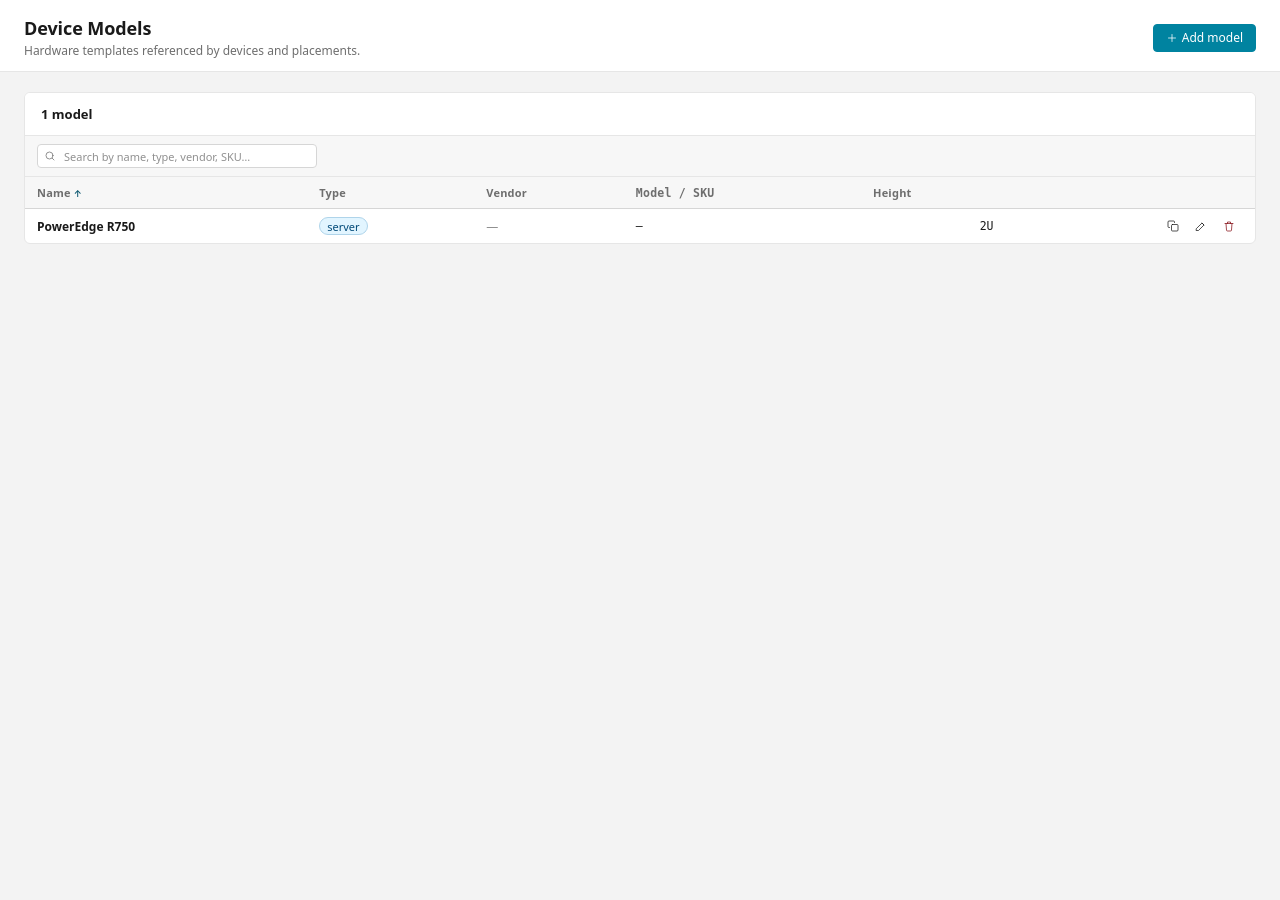
DeviceModelsPanel — create similar › Create similar button opens add modal with prefilled name 'Copy of ...'
Check: the text "PowerEdge R750" is shown, box [37,218,135,234]
Click the button named "Create similar to PowerEdge R750": x=1173, y=226 [1159,215,1187,237]
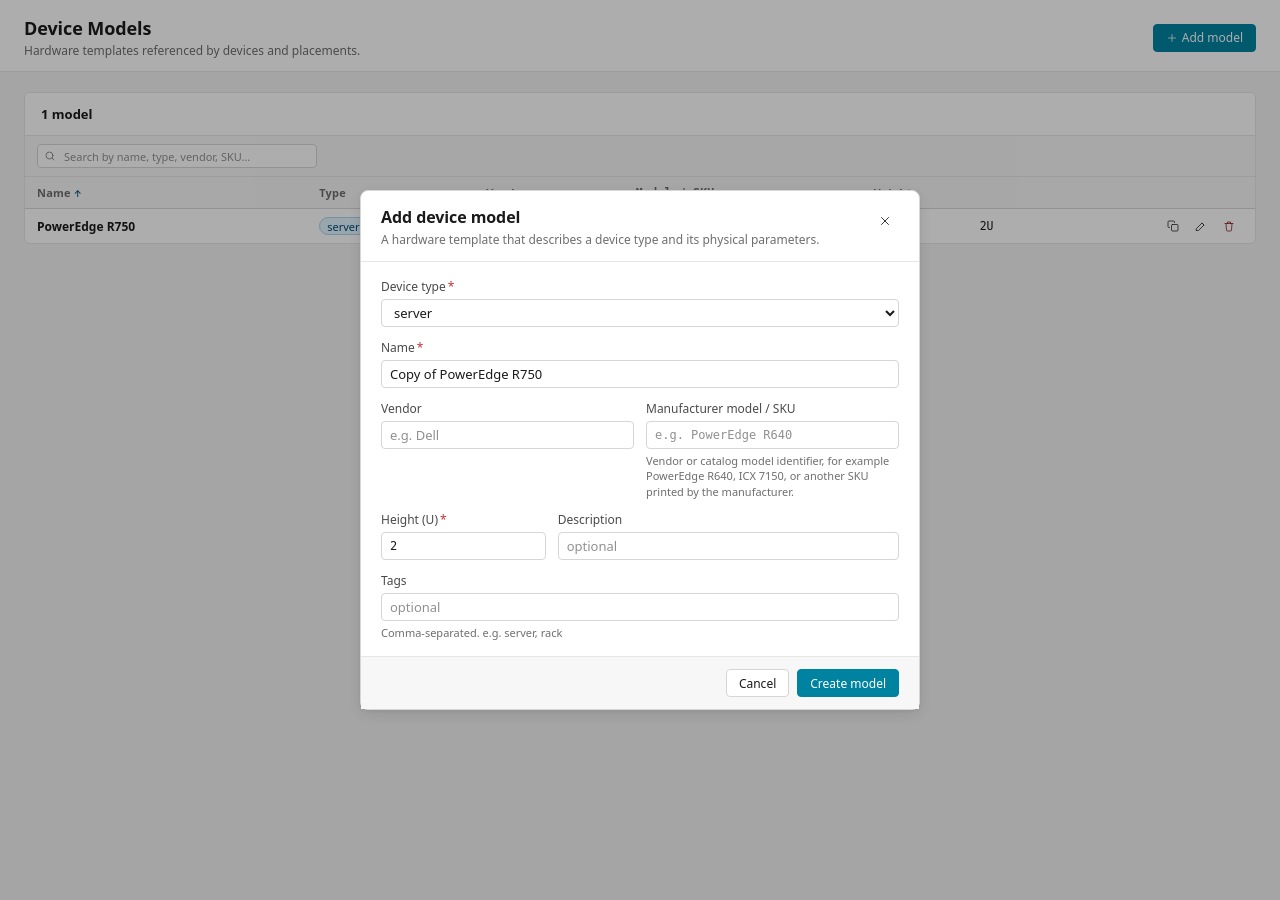
Check: the field with test id "field-name" holds "Copy of PowerEdge R750", box [381,360,899,388]
